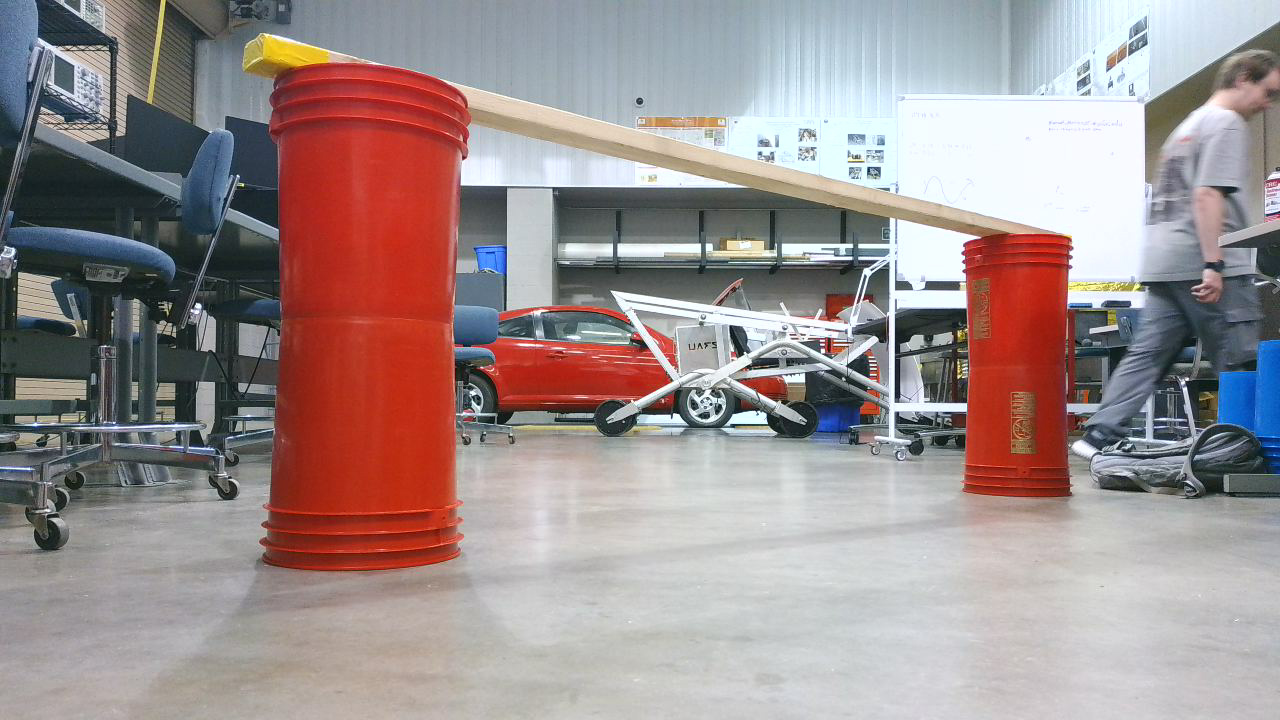red_bucket_arch: (244, 32, 1083, 582)
